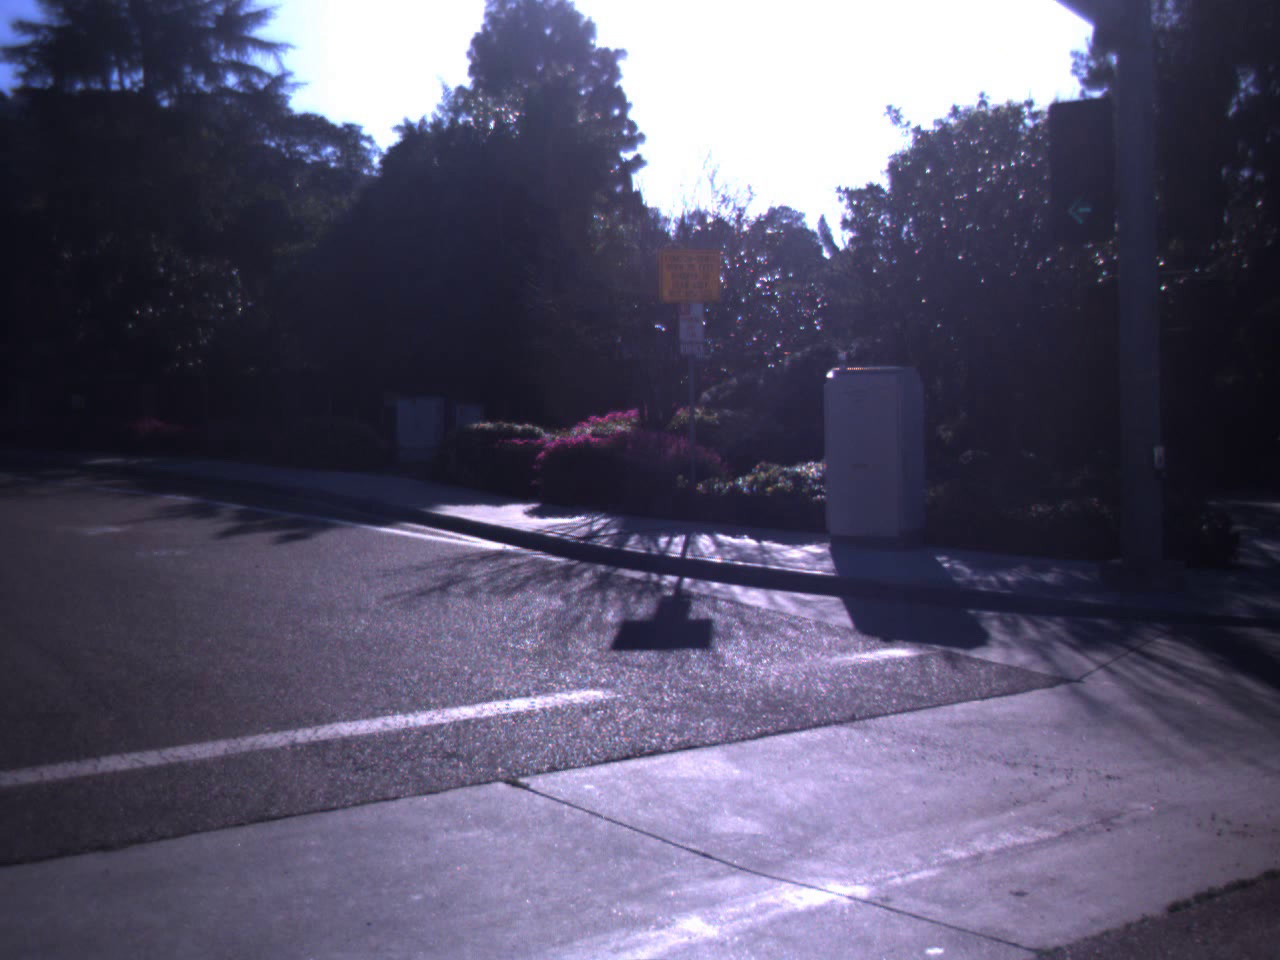go: (1029, 82, 1131, 242)
